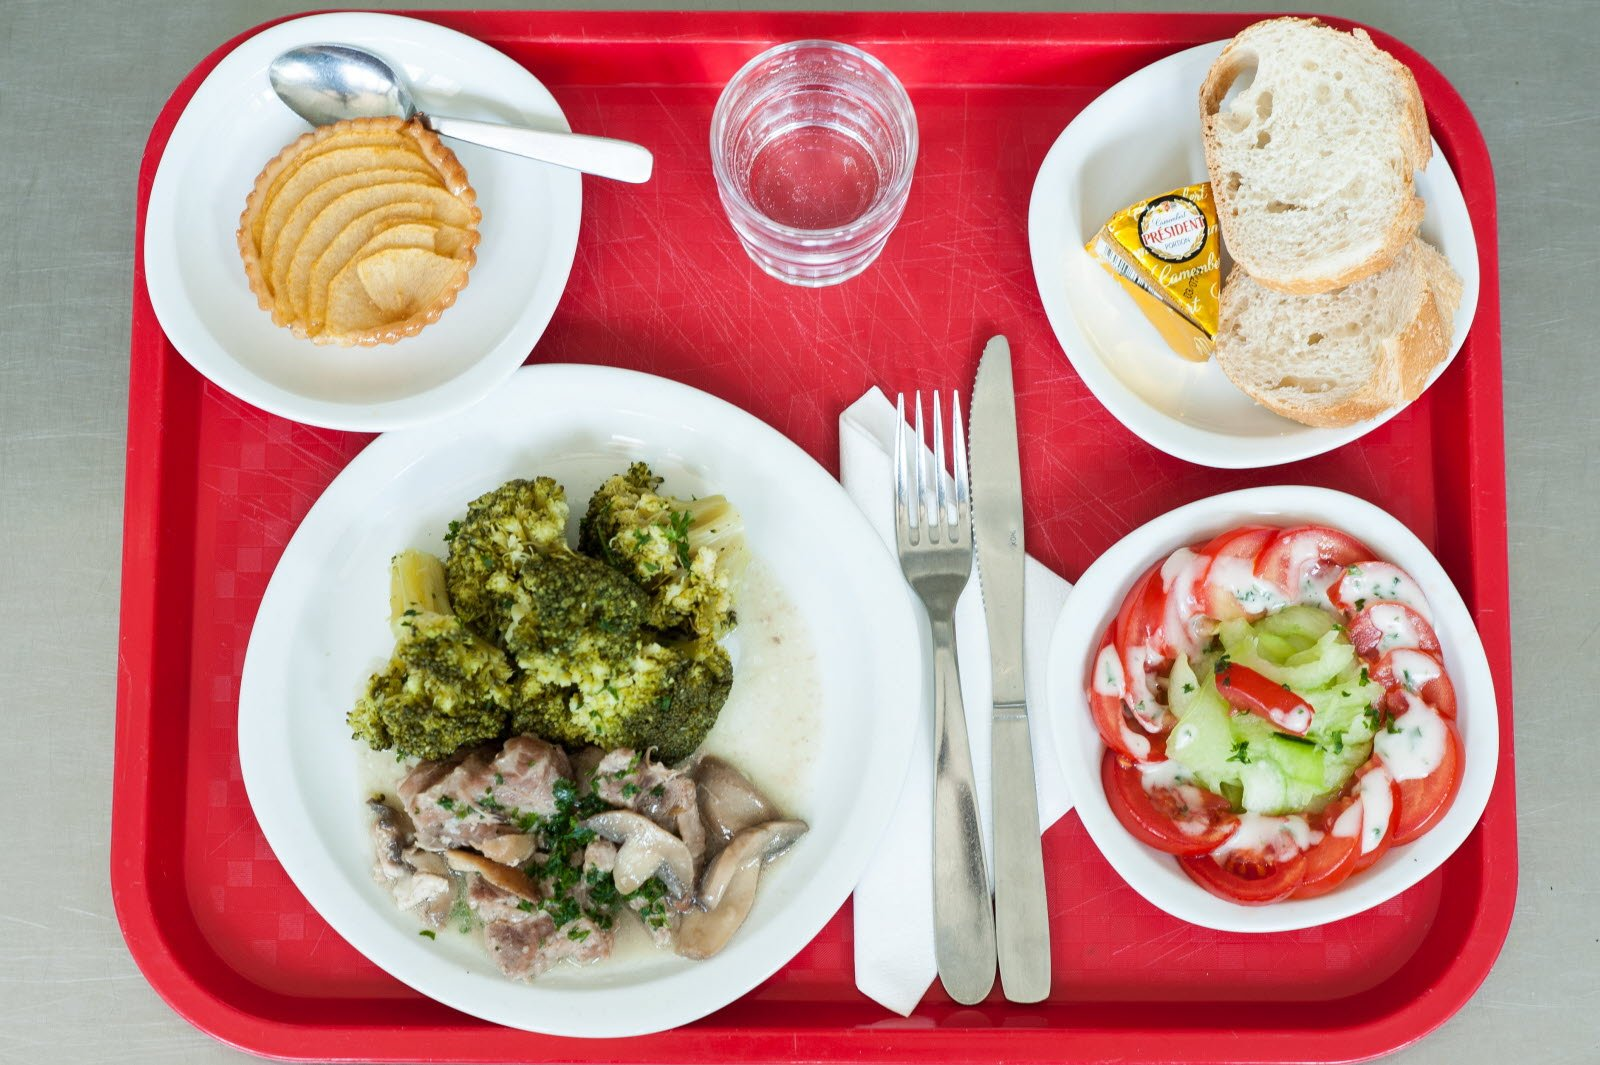cutlery: (892, 333, 1062, 1012), (269, 39, 660, 212)
drink: (711, 38, 921, 294)
plate: (233, 363, 892, 1031), (1054, 471, 1504, 939), (1029, 20, 1480, 466), (141, 13, 586, 429)
